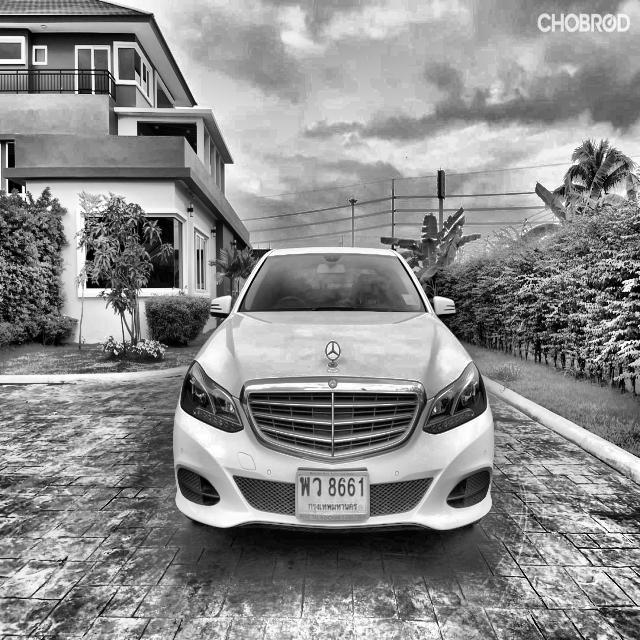license-plate: (293, 464, 372, 522)
